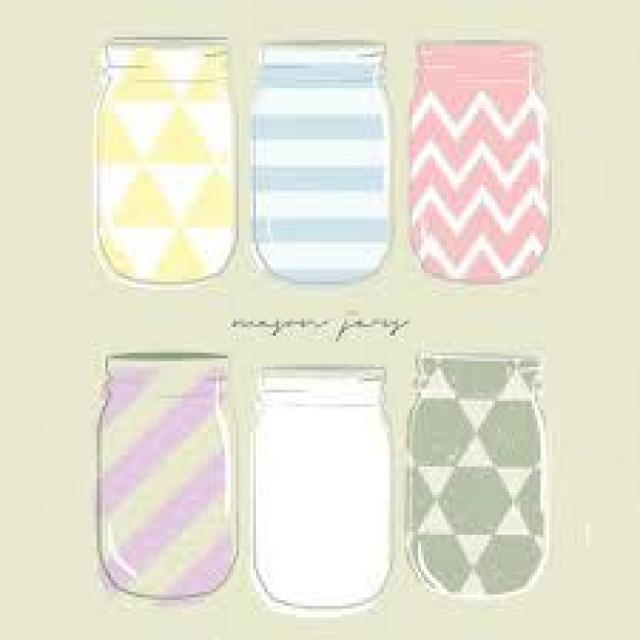non-organic waste: (87, 31, 243, 293), (398, 344, 555, 603), (248, 364, 396, 620), (91, 346, 236, 604), (248, 38, 396, 283), (406, 38, 554, 283)
